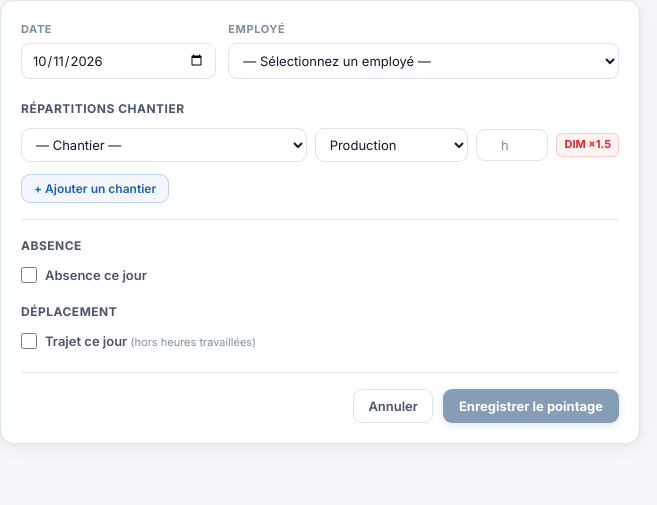
Test case: PointageFormulaire — multi-chantier › supprimer une ligne → repasse à 1 ligne
Click the button "+ Ajouter un chantier" at (95, 188), box [21,174,169,203]
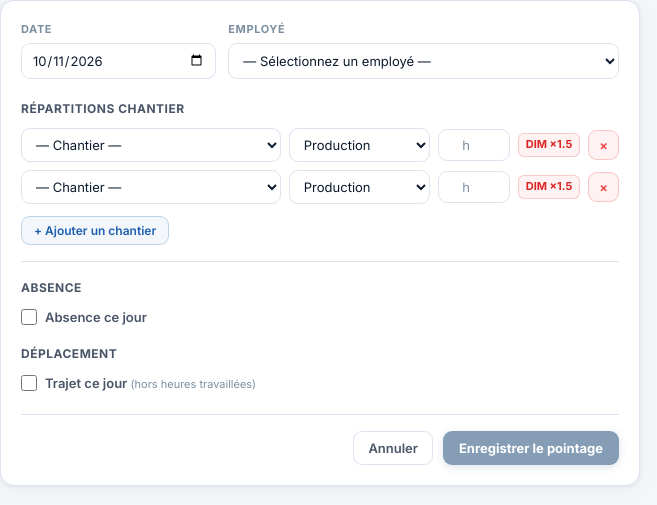
Expected: the number of dropdowns named "Chantier" is 2, [21,128,281,162]; [21,170,281,204]
Click the button named "Supprimer la ligne" at (604, 145), box [588,130,619,160]
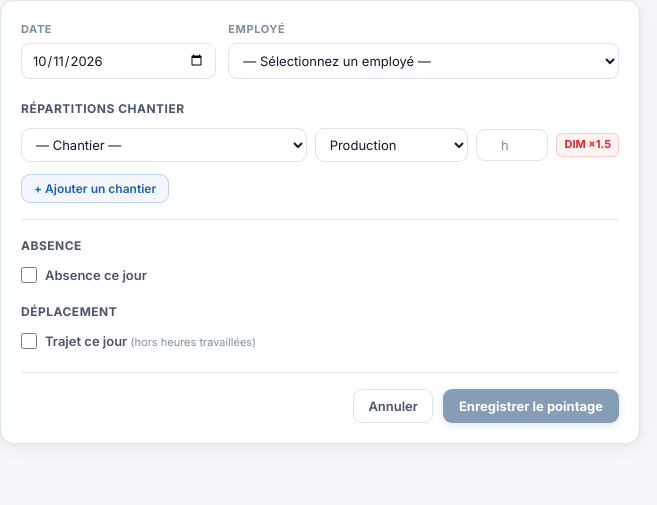
Expected: the number of dropdowns named "Chantier" is 1, [21,128,307,162]
